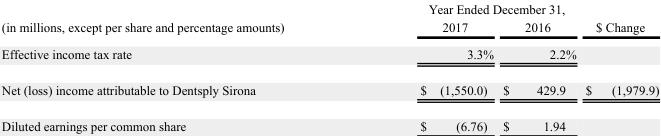table: (0, 1, 658, 133)
table column: (0, 1, 351, 133), (351, 1, 497, 133), (497, 1, 580, 133), (580, 1, 658, 133)
table column header: (0, 1, 658, 39)
table row: (0, 71, 658, 107), (0, 39, 658, 71), (0, 107, 658, 133), (0, 17, 658, 39), (0, 1, 658, 17)
table spanning cell: (0, 1, 351, 39), (351, 1, 580, 17), (580, 1, 658, 39)
